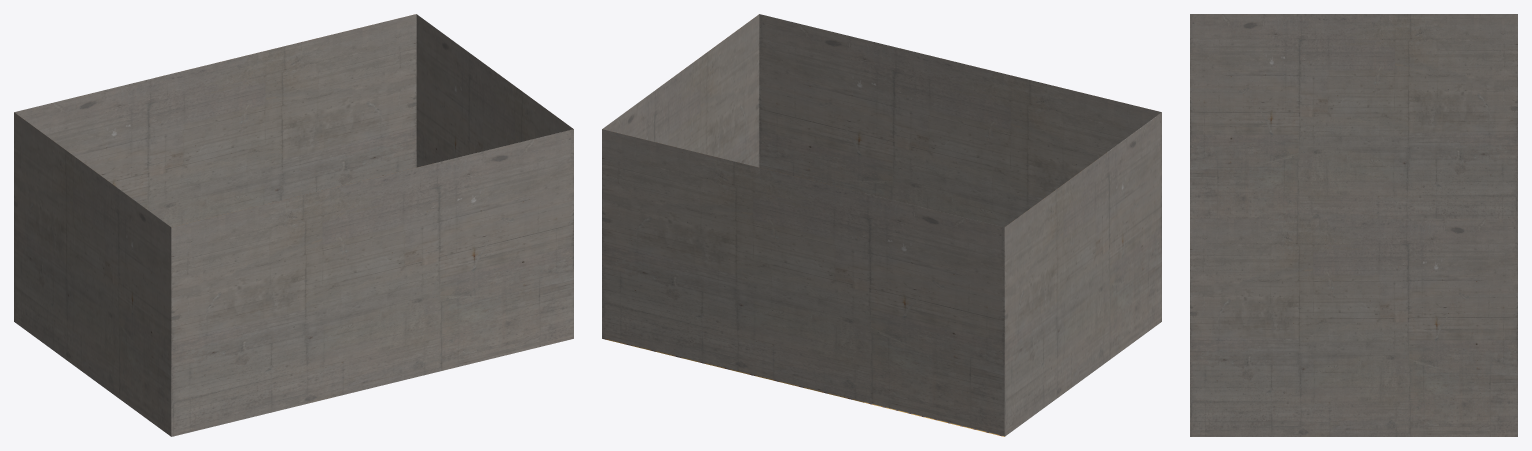
File: VrRoomTest02.FBX
3 views of the same model, side by side, from view 1: azimuth 30°, elevation 25°; view 2: azimuth 150°, elevation 25°; view 3: azimuth 270°, elevation 25° (orthographic). The views are drawn at different scales.
Visible parts, largest first — view 1: Box001; view 2: Box001; view 3: Box001.
Boxes of the visible parts, x1,y1,x2,y2 form: Box001: [14, 14, 573, 436]; Box001: [602, 14, 1161, 436]; Box001: [1190, 14, 1517, 436].
Bounding box in the file's own units: 259 × 129 × 175.
